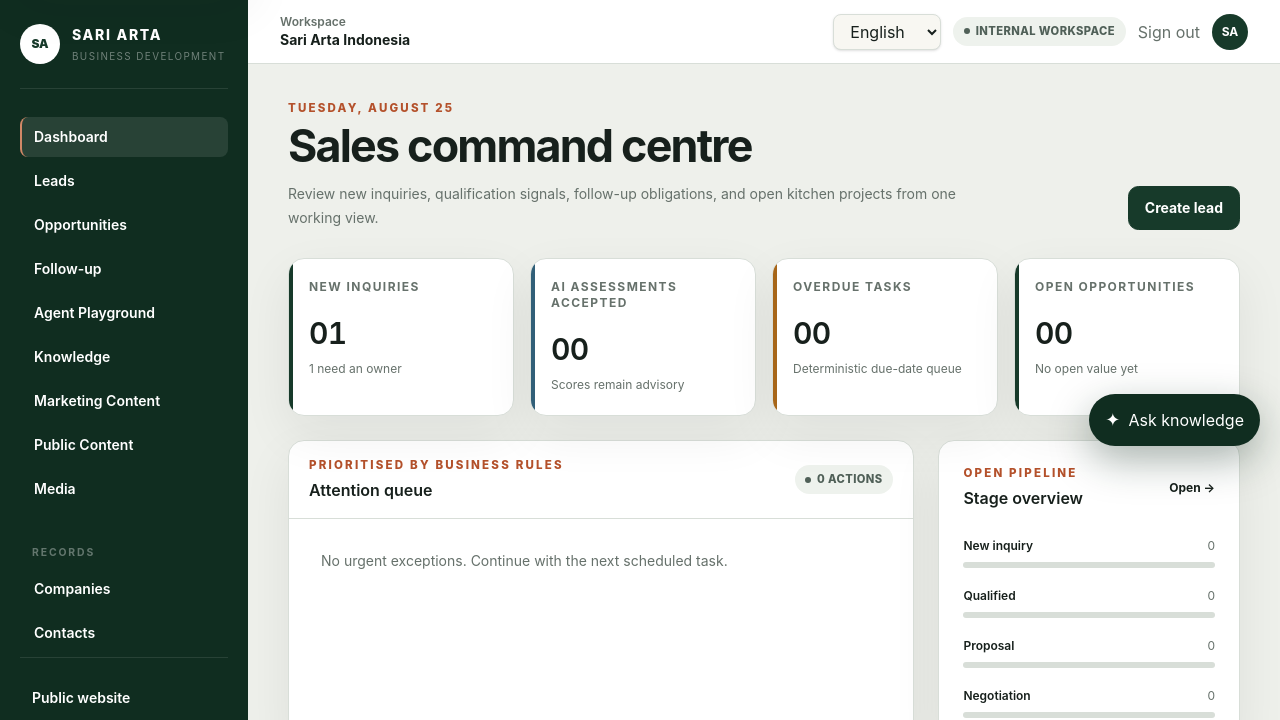
renders the M6 workspace navigation and live dashboard
The image size is (1280, 720).
Expected: the heading "Sales command centre" is shown, [288, 119, 752, 173]
Click the button with aria-label "Open Knowledge Assistant, draggable vertically" at {"x": 1175, "y": 420}, box [1089, 394, 1260, 446]
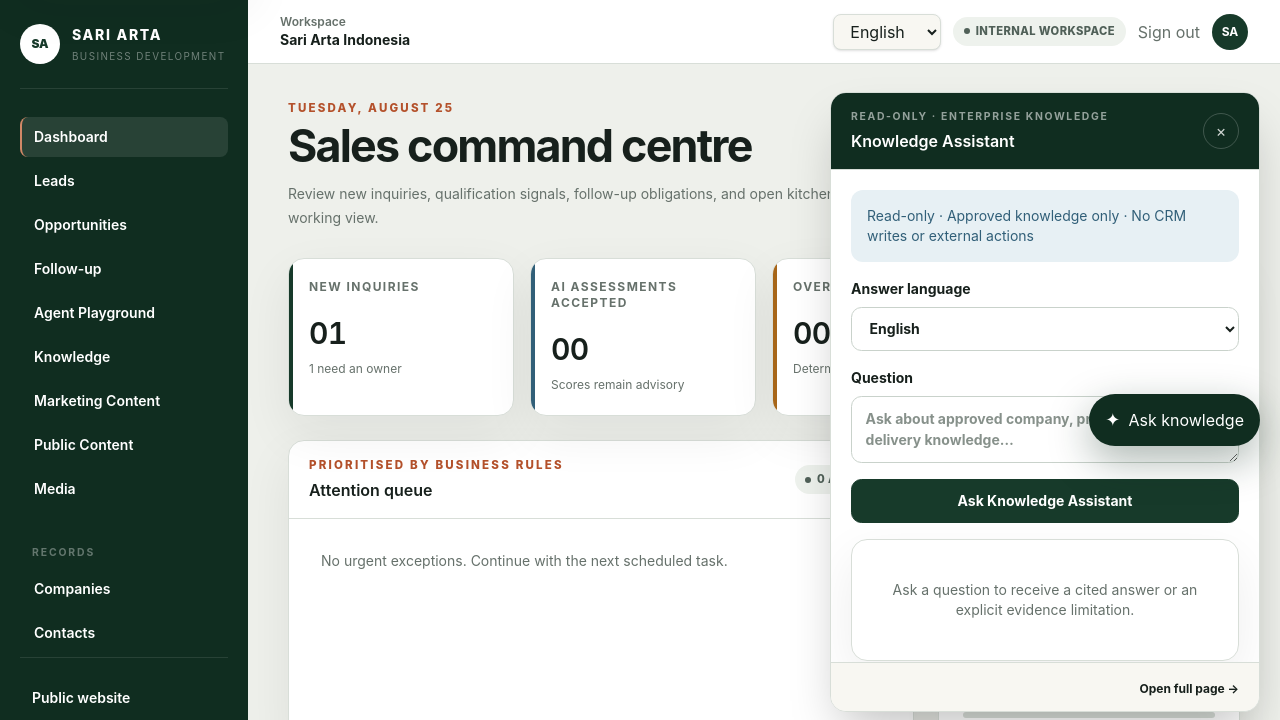
Expected: the dialog named "Enterprise Knowledge Assistant" is shown, [830, 92, 1260, 712]
Expected: the link "Open full page →" is shown, [1140, 681, 1239, 696]
